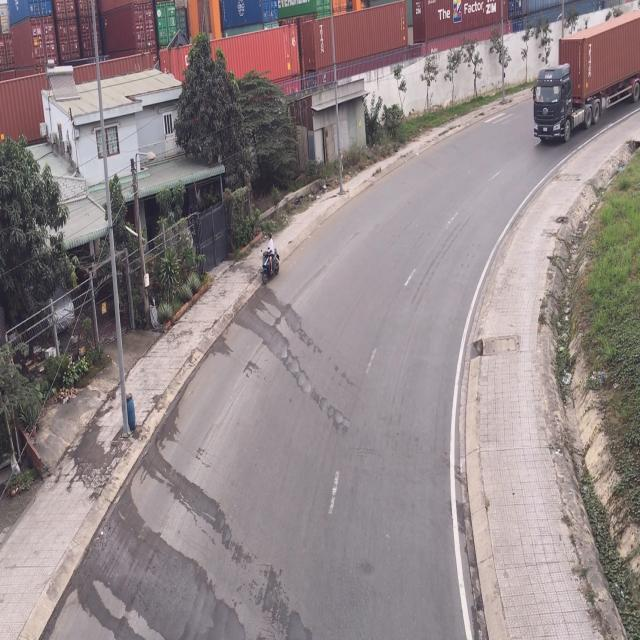motorbike: (263, 235, 282, 285)
truck: (530, 8, 640, 145)
